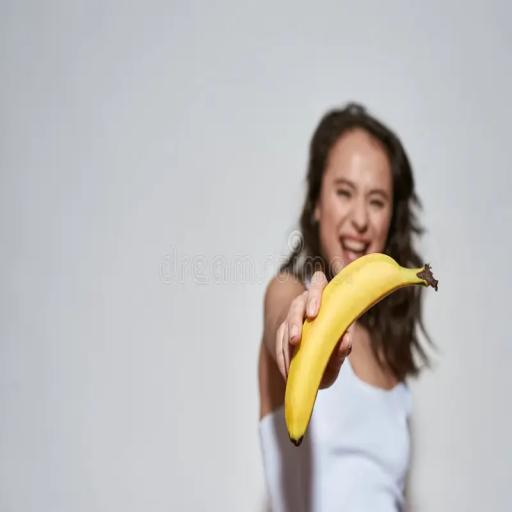banana: (285, 254, 437, 445)
